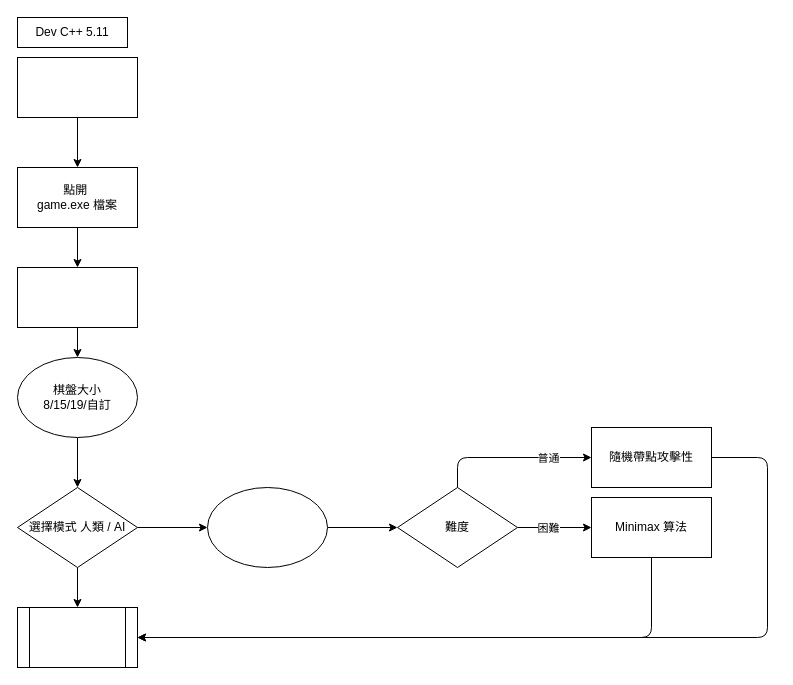
The diagram is 793 pixels wide and 685 high, and some of its shapes have lost their labels. Here are the shapes that lost their labels. From the top down, the centre of each, then its label:
At [77,87]: "遊戲流程".
At [77,297]: "歡迎標題".
At [267,527]: "先後手選擇 先手/後手/隨機".
At [77,637]: "進入遊戲".
